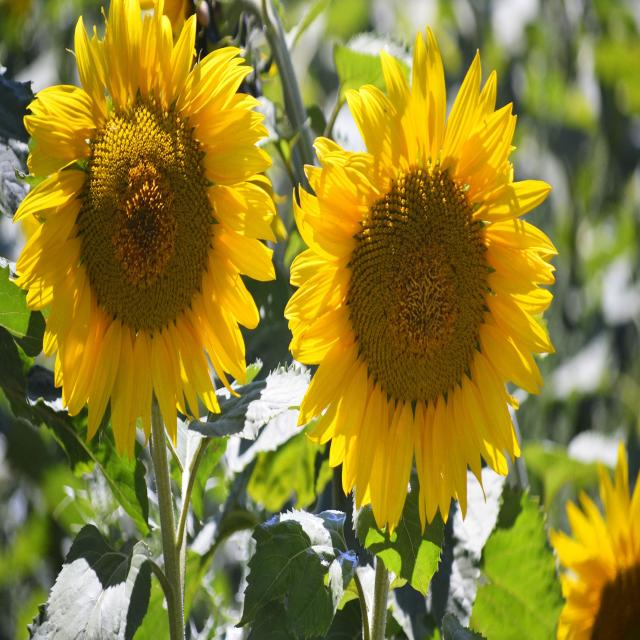sunflower: (286, 27, 556, 534), (7, 5, 276, 447)
